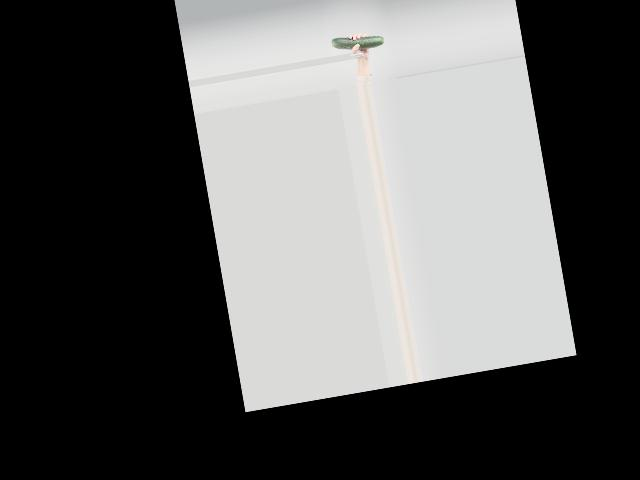cucumber: (330, 30, 383, 54)
